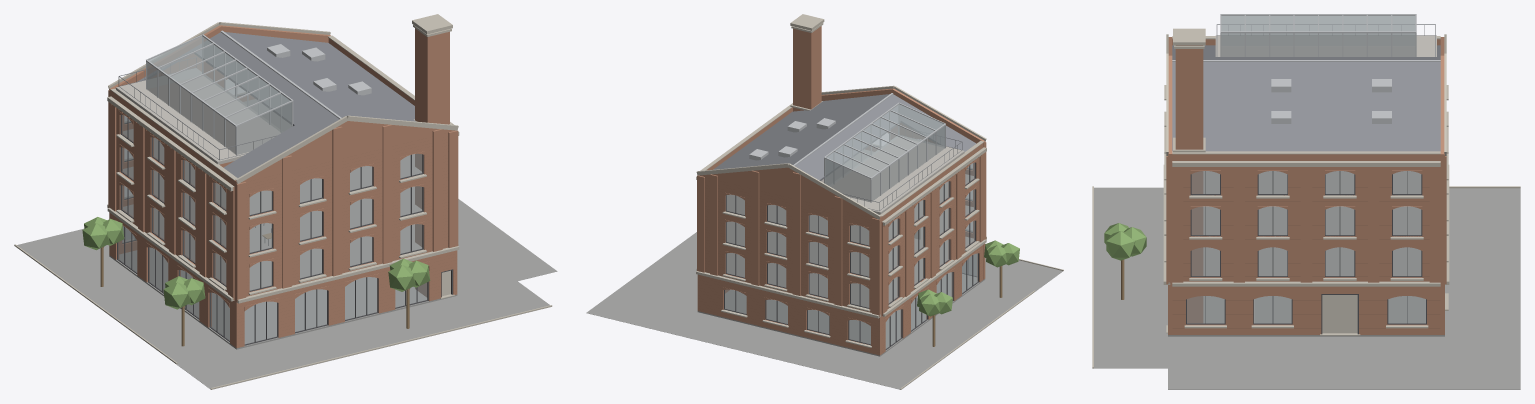
The model's file is clay-arched-mill-mixed-use-clay-v005.glb.
3 renders of one model, left to right at view 1: azimuth 30°, elevation 25°; view 2: azimuth 150°, elevation 25°; view 3: azimuth 270°, elevation 25°, orthographic. The views are drawn at different scales.
Visible parts, largest first — view 1: CLAY_WALL, CLAY_FOUNDATION, CLAY_GLASS, CLAY_FLOOR, CLAY_ROOF, CLAY_STONE, CLAY_TRIM, CLAY_METAL, CLAY_PLANTING, CLAY_CONCRETE, CLAY_HARDWARE, CLAY_TIMBER; view 2: CLAY_WALL, CLAY_FOUNDATION, CLAY_GLASS, CLAY_FLOOR, CLAY_ROOF, CLAY_STONE, CLAY_TRIM, CLAY_METAL, CLAY_CONCRETE, CLAY_PLANTING, CLAY_HARDWARE; view 3: CLAY_FOUNDATION, CLAY_WALL, CLAY_ROOF, CLAY_GLASS, CLAY_FLOOR, CLAY_STONE, CLAY_METAL, CLAY_TRIM, CLAY_CONCRETE, CLAY_PALE, CLAY_PLANTING, CLAY_JOINT.
Part boxes in pixels (x1,y1,x2,y2): CLAY_WALL: (108, 25, 458, 348); CLAY_FOUNDATION: (17, 199, 557, 389); CLAY_GLASS: (118, 36, 427, 344); CLAY_FLOOR: (123, 76, 422, 290); CLAY_ROOF: (137, 32, 415, 177); CLAY_STONE: (14, 14, 552, 389); CLAY_TRIM: (117, 93, 452, 345); CLAY_METAL: (146, 30, 371, 155); CLAY_PLANTING: (82, 217, 430, 309); CLAY_CONCRETE: (116, 68, 279, 164); CLAY_HARDWARE: (118, 59, 277, 160); CLAY_TIMBER: (100, 233, 410, 346); CLAY_WALL: (697, 26, 986, 355); CLAY_FOUNDATION: (586, 232, 1062, 389); CLAY_GLASS: (725, 104, 977, 348); CLAY_FLOOR: (726, 137, 973, 307); CLAY_ROOF: (713, 94, 976, 180); CLAY_STONE: (696, 14, 1063, 389); CLAY_TRIM: (724, 145, 978, 349); CLAY_METAL: (749, 93, 945, 202); CLAY_CONCRETE: (830, 136, 964, 214); CLAY_PLANTING: (917, 240, 1019, 316); CLAY_HARDWARE: (842, 137, 962, 210); CLAY_FOUNDATION: (1094, 187, 1520, 389); CLAY_WALL: (1166, 37, 1446, 334); CLAY_ROOF: (1172, 45, 1440, 151); CLAY_GLASS: (1187, 16, 1425, 323); CLAY_FLOOR: (1203, 46, 1421, 275); CLAY_STONE: (1092, 28, 1520, 368); CLAY_METAL: (1172, 14, 1440, 123); CLAY_TRIM: (1186, 171, 1426, 334); CLAY_CONCRETE: (1215, 35, 1436, 56); CLAY_PALE: (1322, 295, 1357, 333); CLAY_PLANTING: (1104, 223, 1146, 260); CLAY_JOINT: (1173, 187, 1439, 328).
Size of the model in its own units: 38 by 25.7 by 34.
